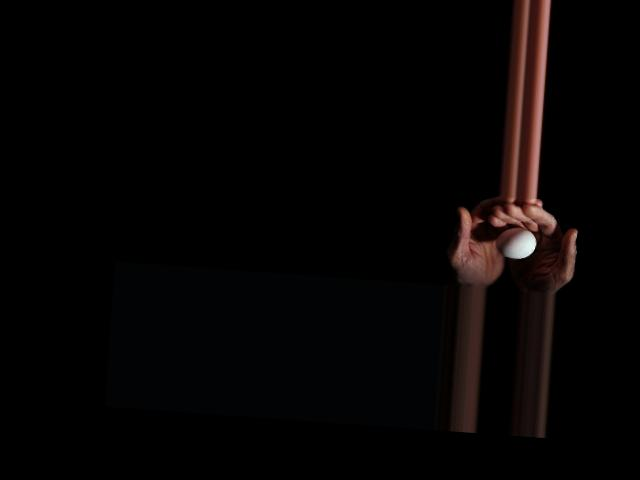egg: (495, 225, 538, 260)
